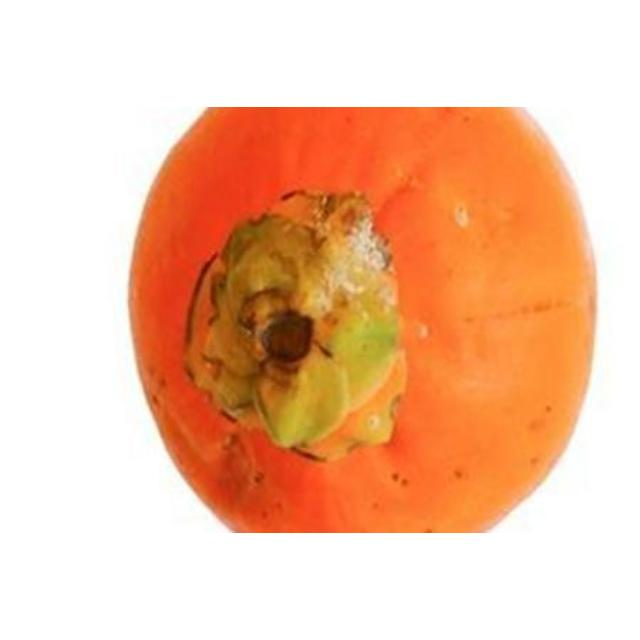good: (127, 107, 599, 532)
